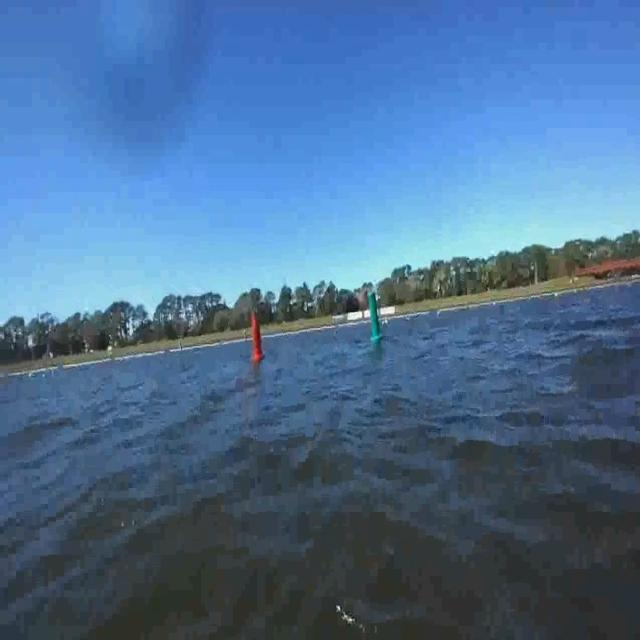green-column-buoy: (367, 291, 383, 342)
red-column-buoy: (250, 312, 264, 361)
